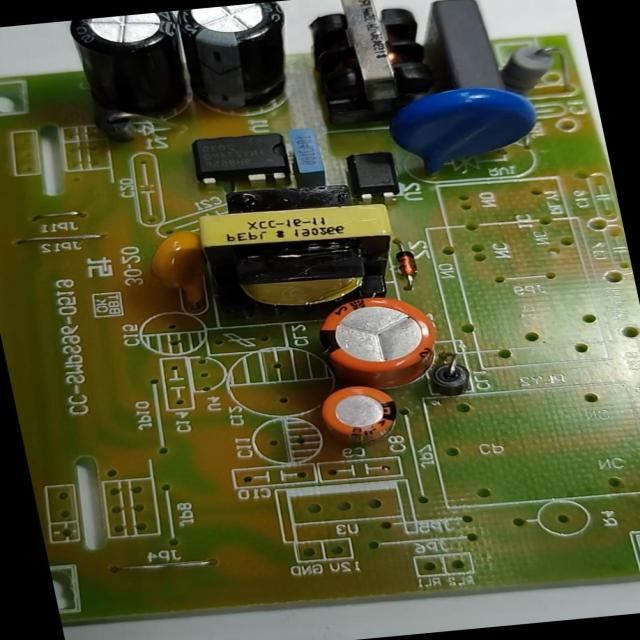Cap1: (302, 287, 459, 397)
Cap2: (302, 376, 412, 456)
Cap3: (166, 1, 306, 124)
Cap4: (56, 9, 220, 149)
MOSFET: (180, 129, 304, 199)
Mov: (364, 78, 555, 196)
Resistor: (492, 39, 572, 101)
Transformer: (180, 176, 415, 335), (307, 0, 444, 143)
